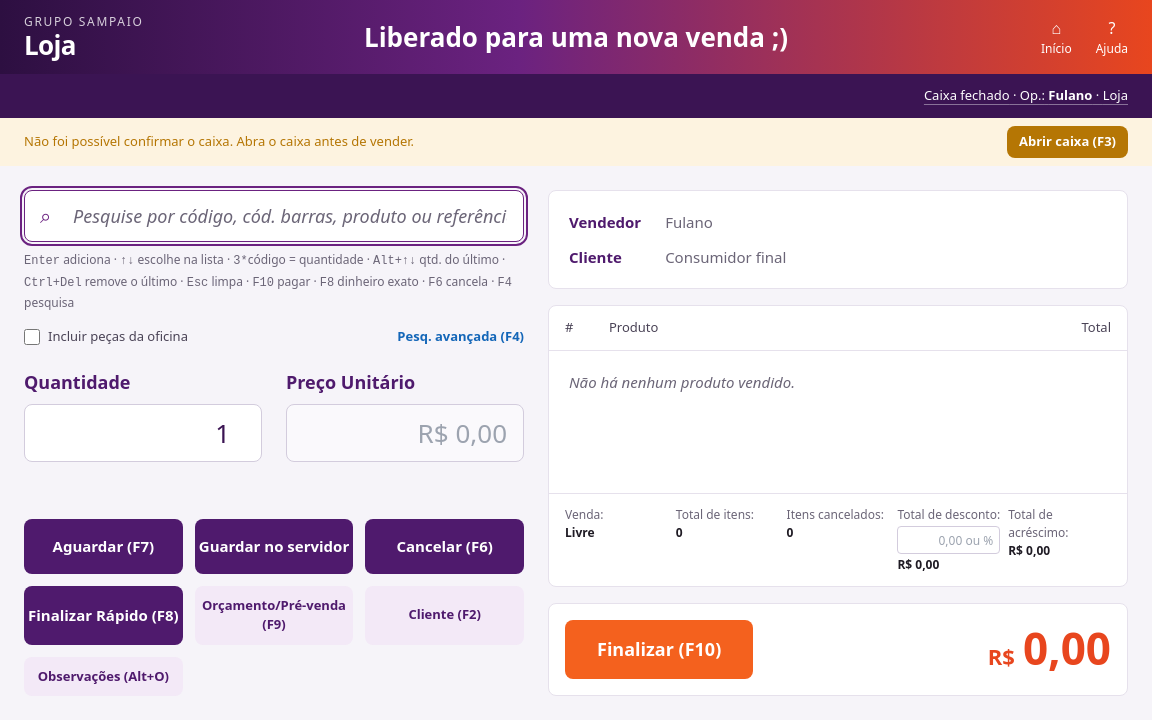
Scenario: o balcão vê e gasta o vale › sem cliente na venda, o bloco do vale nem aparece
The width and height of the screenshot is (1152, 720).
Type "7890000002222" into the field labelled "Pesquise por código, cód. barras, produto ou referência" at x=274, y=216, box [24,190,524,242]
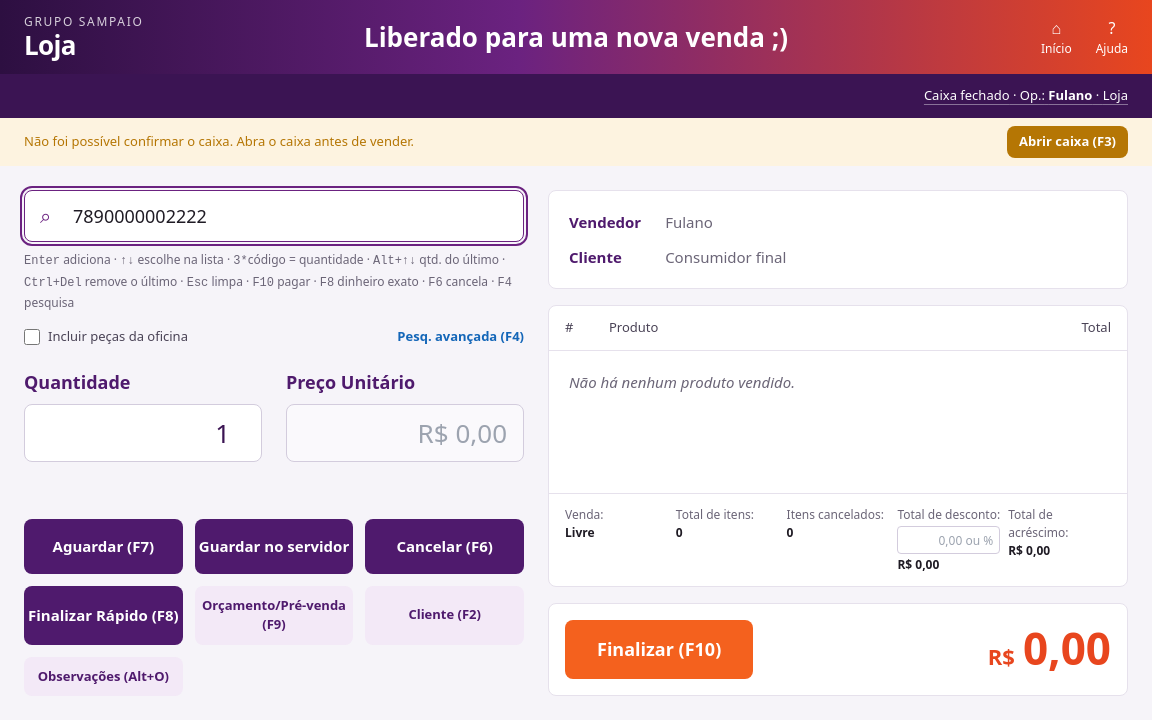
Press Enter in the field named "Pesquise por código", box [24,190,524,242]
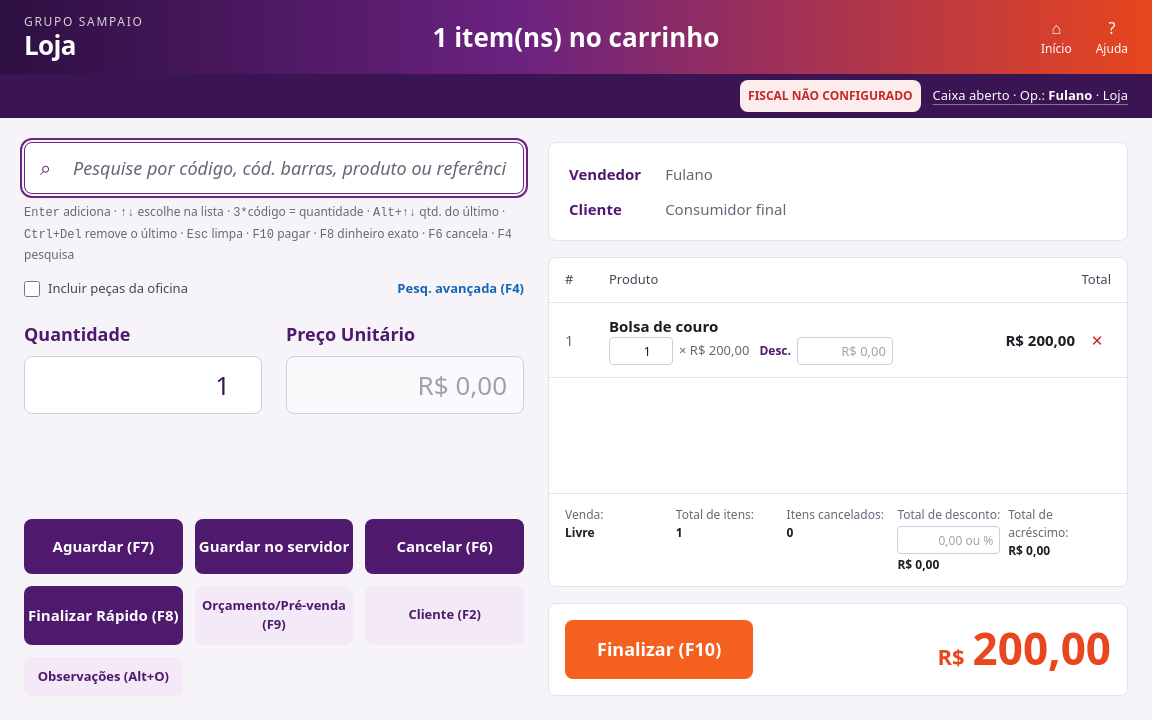
expect the button named "Remover " is shown: met, box [1083,324,1111,356]
Click the button "Finalizar (F10)" at x=659, y=650, box [565,620,753,679]
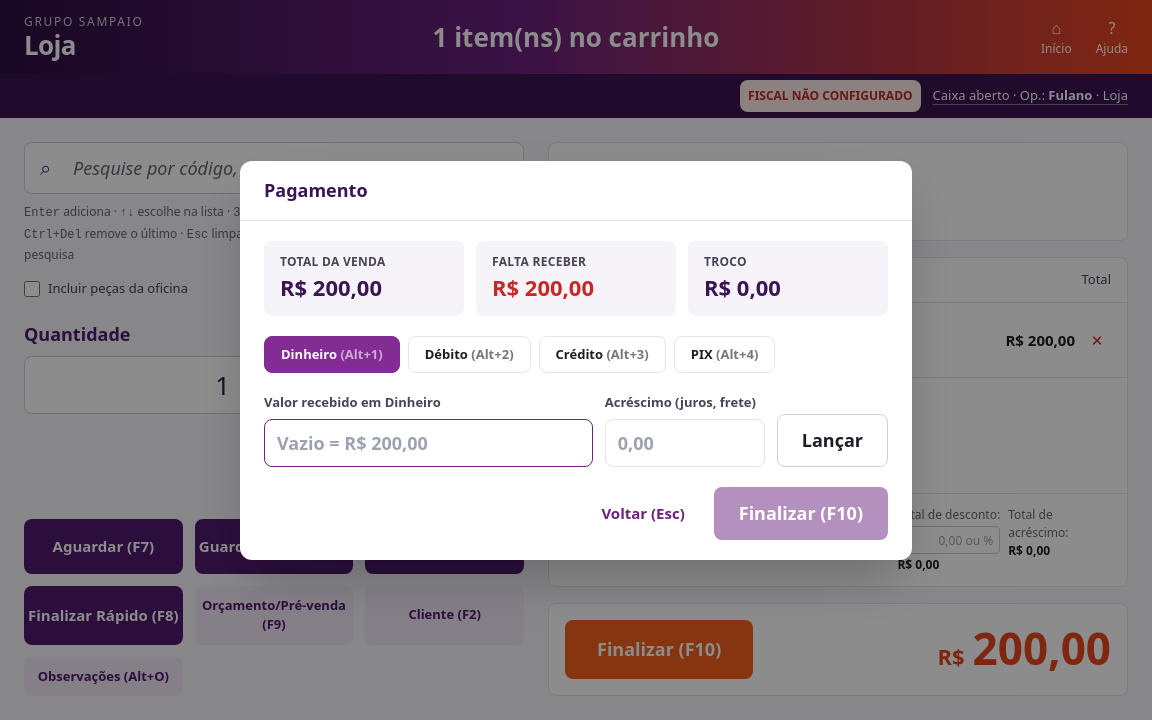
expect the dialog "Pagamento" is shown: met
